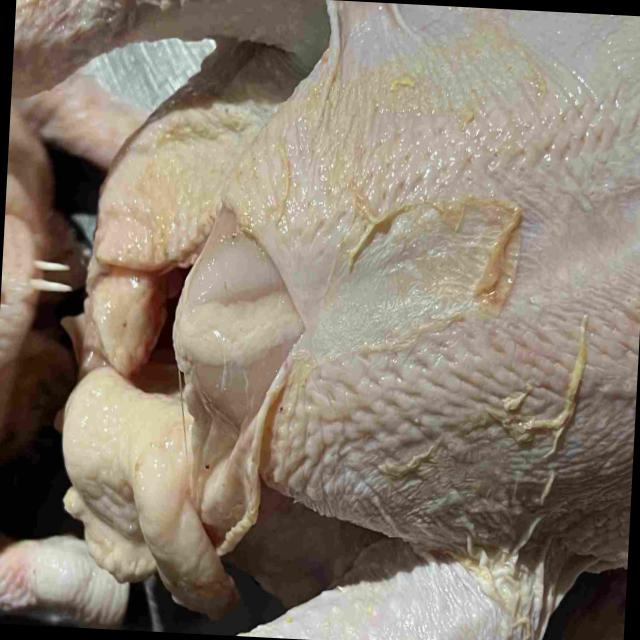breast: (178, 7, 640, 555)
leg: (11, 0, 434, 99), (219, 547, 565, 640), (0, 525, 125, 630)
wing: (560, 580, 627, 640)
